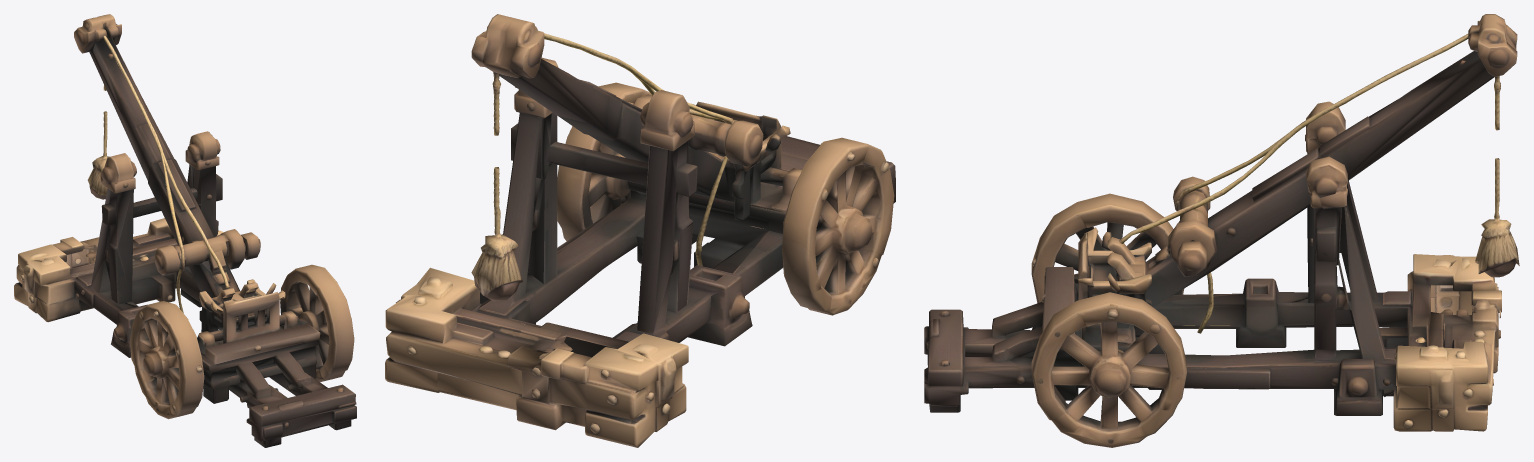
The model's file is mobile-catapult.glb.
3 views of the same model, side by side, from view 1: azimuth 30°, elevation 25°; view 2: azimuth 150°, elevation 25°; view 3: azimuth 270°, elevation 25° (orthographic). The views are drawn at different scales.
Visible parts, largest first — view 1: tripo_part_0, tripo_part_1, tripo_part_2, tripo_part_3, tripo_part_5, tripo_part_4; view 2: tripo_part_0, tripo_part_1, tripo_part_4, tripo_part_3, tripo_part_2, tripo_part_5; view 3: tripo_part_0, tripo_part_2, tripo_part_4, tripo_part_1, tripo_part_3, tripo_part_5.
Part boxes in pixels (x1,y1,x2,y2): tripo_part_0: (14,14,356,447); tripo_part_1: (130,301,204,419); tripo_part_2: (280,264,354,382); tripo_part_3: (87,36,229,312); tripo_part_5: (74,255,138,324); tripo_part_4: (70,164,266,318); tripo_part_0: (385,14,895,447); tripo_part_1: (782,137,894,315); tripo_part_4: (479,113,783,341); tripo_part_3: (471,33,733,301); tripo_part_2: (557,82,651,241); tripo_part_5: (625,226,723,342); tripo_part_0: (924,14,1517,431); tripo_part_2: (1031,292,1186,447); tripo_part_4: (1131,202,1413,389); tripo_part_1: (1031,193,1183,303); tripo_part_3: (1119,34,1519,333); tripo_part_5: (1275,281,1383,327).
Size of the model in its own units: 0.4961 by 0.6882 by 1.
6 materials, 6 textured.
